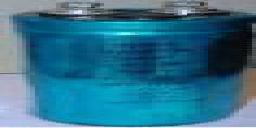Electrolytic-Capacitor: (12, 1, 246, 127)
